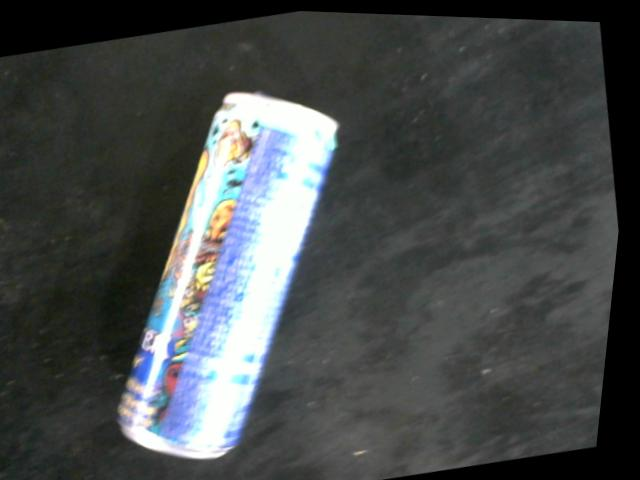can: (121, 87, 346, 460)
